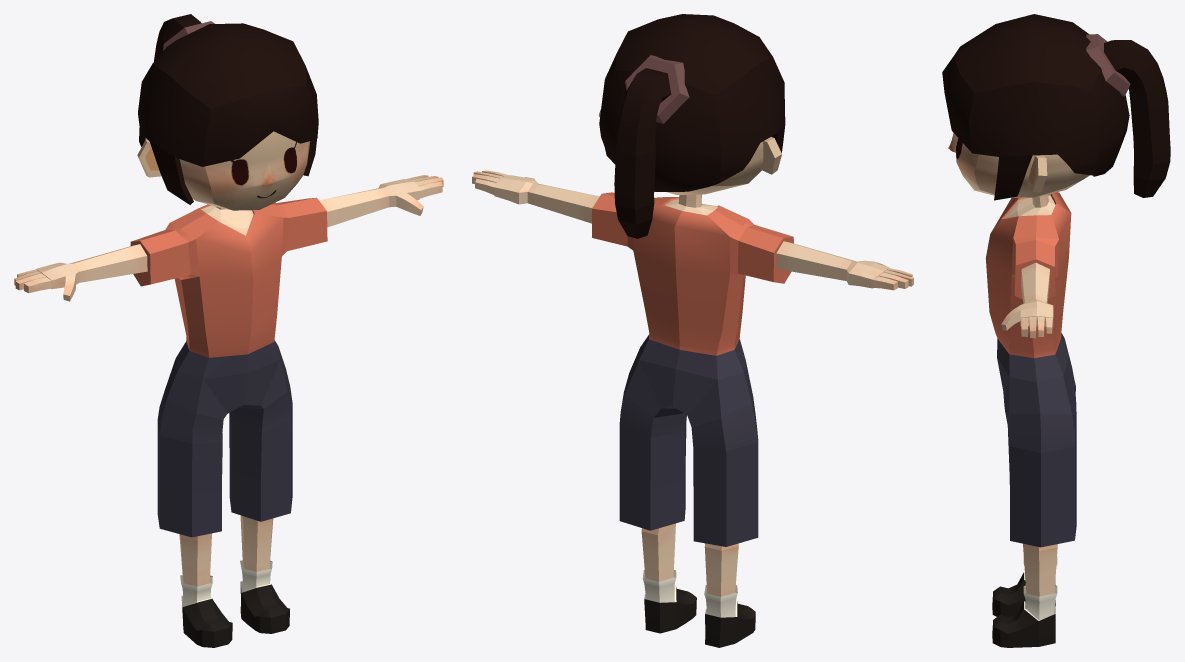
Rendered from NPC1_G_Texture.obj.
3 renders of one model, left to right at view 1: azimuth 30°, elevation 25°; view 2: azimuth 150°, elevation 25°; view 3: azimuth 270°, elevation 25°, orthographic. The views are drawn at different scales.
Visible parts, largest first — view 1: Body_standardSurface11SG, Head_uv_standardSurface10SG_1, Head_uv_standardSurface10SG, Head_uv_standardSurface10SG_2; view 2: Body_standardSurface11SG, Head_uv_standardSurface10SG_1, Head_uv_standardSurface10SG_2, Head_uv_standardSurface10SG_3, Head_uv_standardSurface10SG; view 3: Body_standardSurface11SG, Head_uv_standardSurface10SG_1, Head_uv_standardSurface10SG_2, Head_uv_standardSurface10SG, Head_uv_standardSurface10SG_3, ears_standardSurface10SG.
Part boxes in pixels (bbox=[...]): Body_standardSurface11SG: bbox=[14, 175, 443, 647]; Head_uv_standardSurface10SG_1: bbox=[138, 23, 318, 204]; Head_uv_standardSurface10SG: bbox=[145, 131, 310, 210]; Head_uv_standardSurface10SG_2: bbox=[154, 14, 201, 61]; Body_standardSurface11SG: bbox=[472, 170, 913, 647]; Head_uv_standardSurface10SG_1: bbox=[599, 14, 785, 191]; Head_uv_standardSurface10SG_2: bbox=[614, 68, 671, 238]; Head_uv_standardSurface10SG_3: bbox=[625, 55, 689, 123]; Head_uv_standardSurface10SG: bbox=[666, 141, 763, 194]; Body_standardSurface11SG: bbox=[985, 192, 1076, 647]; Head_uv_standardSurface10SG_1: bbox=[942, 14, 1129, 200]; Head_uv_standardSurface10SG_2: bbox=[1104, 40, 1170, 197]; Head_uv_standardSurface10SG: bbox=[948, 133, 1089, 197]; Head_uv_standardSurface10SG_3: bbox=[1086, 34, 1130, 96]; ears_standardSurface10SG: bbox=[1027, 156, 1047, 192].
Size of the model in its own units: 15.43 by 20.53 by 7.07.
Materials: 2 (2 with a texture image).
